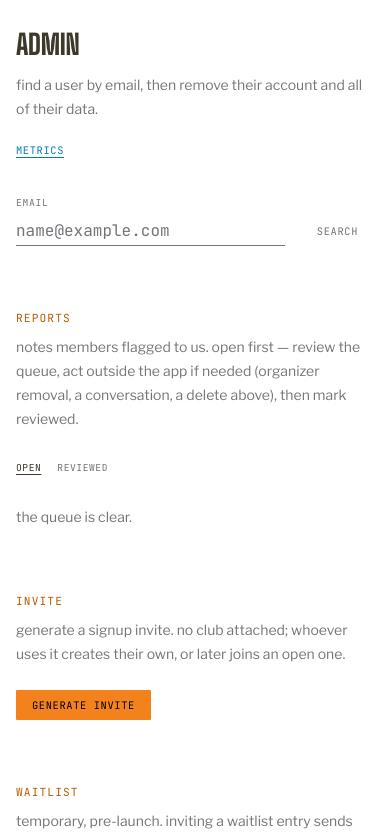
AdminRoute › search: queries by email and lists matches
The width and height of the screenshot is (390, 837).
Step 1. Type "target" into the search field labelled "email" → x=150, y=232, box [16,217,285,246]
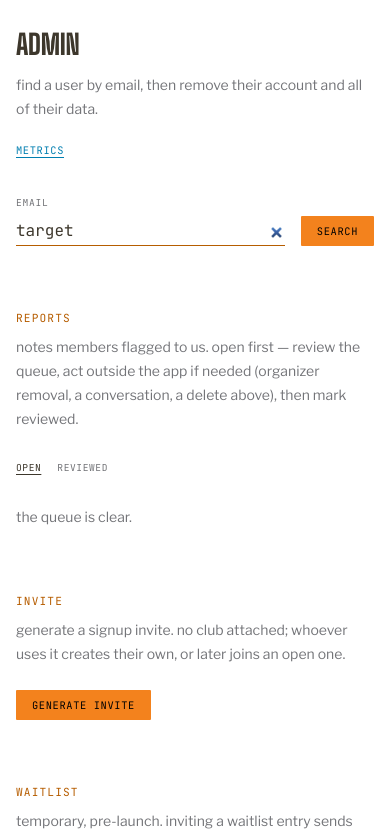
Step 2. Click the button "search" → x=337, y=231, box [301,216,374,246]
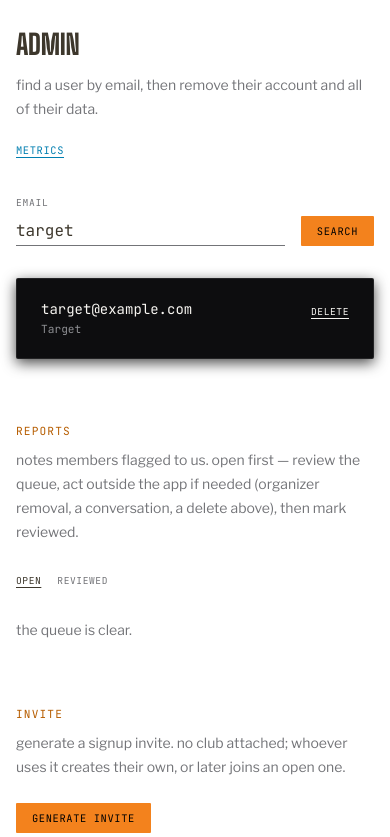
Expected: the text "target@example.com" is shown, [41,299,192,319]
Expected: the text "Target" is shown, [41,322,81,336]
